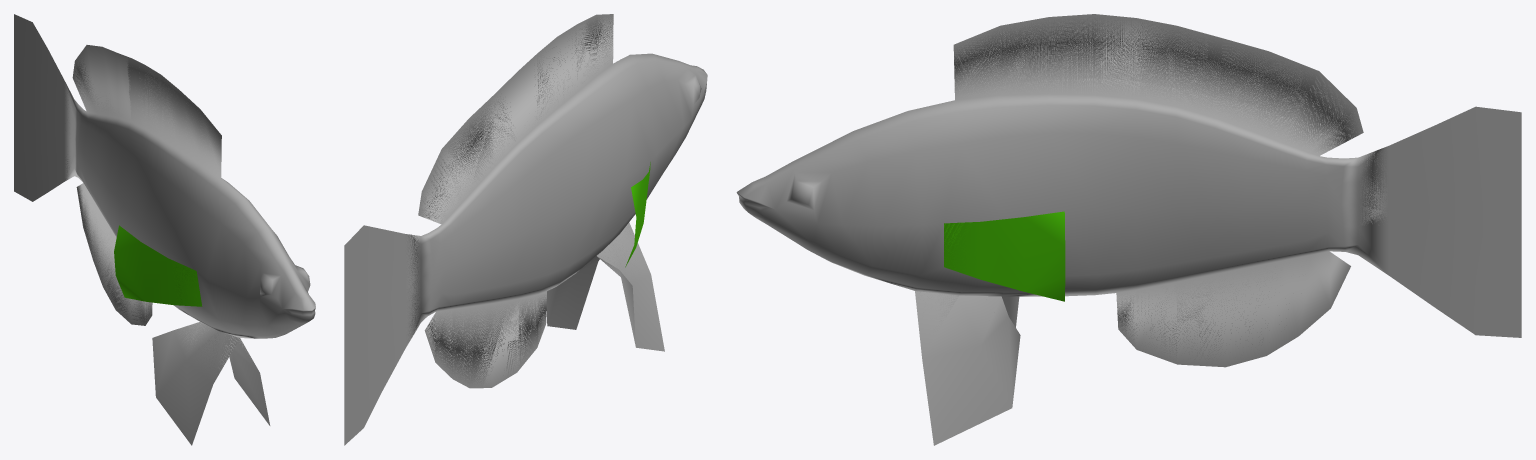
Rendered from Labridae_D_S.fbx.
The picture shows the model from 3 angles, left to right: view 1: azimuth 30°, elevation 25°; view 2: azimuth 150°, elevation 25°; view 3: azimuth 270°, elevation 25°; orthographic projection. The views are drawn at different scales.
Visible parts, largest first — view 1: Labridae_D_S_Mesh; view 2: Labridae_D_S_Mesh; view 3: Labridae_D_S_Mesh.
Part boxes in pixels (x1,y1,x2,y2): Labridae_D_S_Mesh: (14,14,315,445); Labridae_D_S_Mesh: (344,14,707,445); Labridae_D_S_Mesh: (736,14,1521,445).
Bounding box in the file's own units: 0.00226 × 0.00582 × 0.0103.
